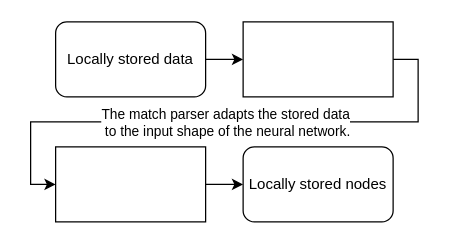
This 450x244 diagram has some shape labels left out. The centre of each missing label's shape, as x and y in pixels:
"Match parser" goes at [317,59].
"train network" goes at [130,184].
